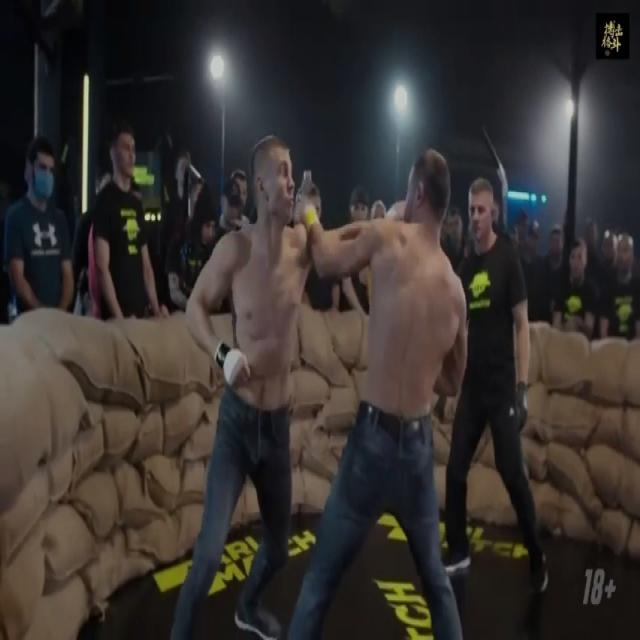fight: (179, 112, 468, 640)
non-fight: (437, 160, 556, 605), (80, 120, 166, 327), (0, 128, 75, 319)
